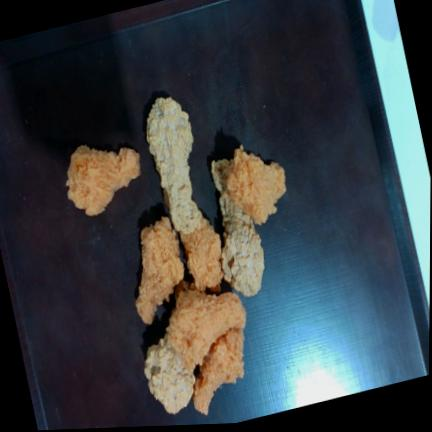chicken: (147, 97, 202, 232), (212, 159, 265, 296), (167, 290, 246, 370), (136, 216, 184, 324), (66, 145, 140, 215), (227, 145, 286, 224), (193, 328, 244, 414), (145, 336, 195, 413), (180, 214, 223, 291)
